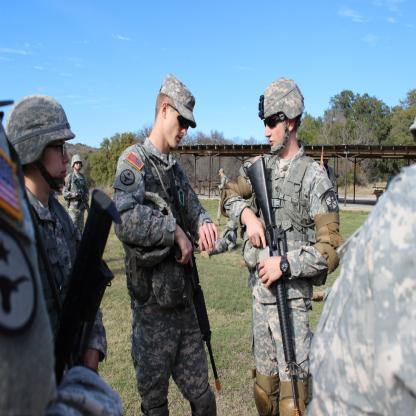Helmet: (13, 96, 71, 198), (258, 77, 306, 157), (71, 154, 83, 174), (228, 219, 236, 233)
